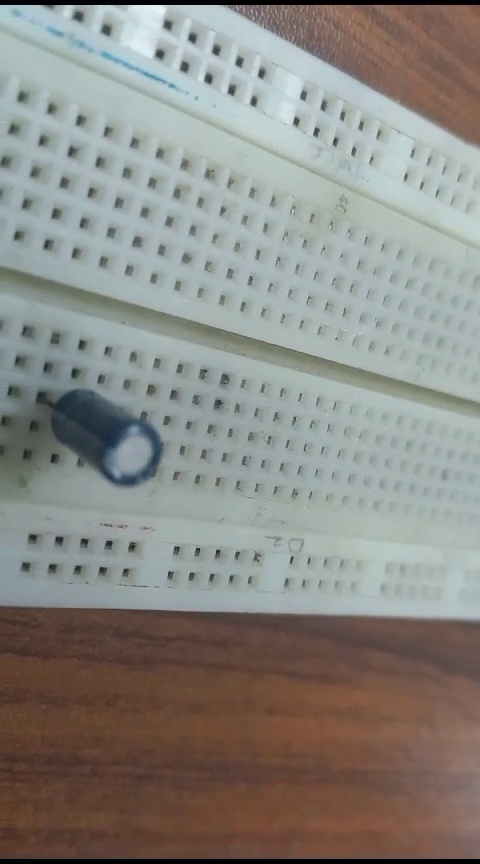capacitor: (34, 360, 166, 496)
